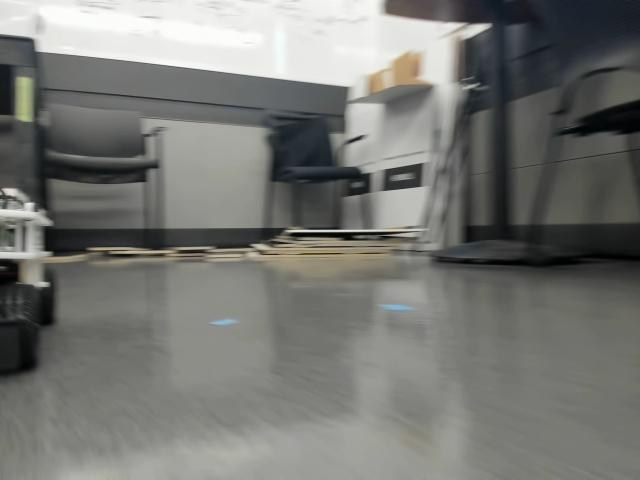Car: (2, 177, 55, 371)
